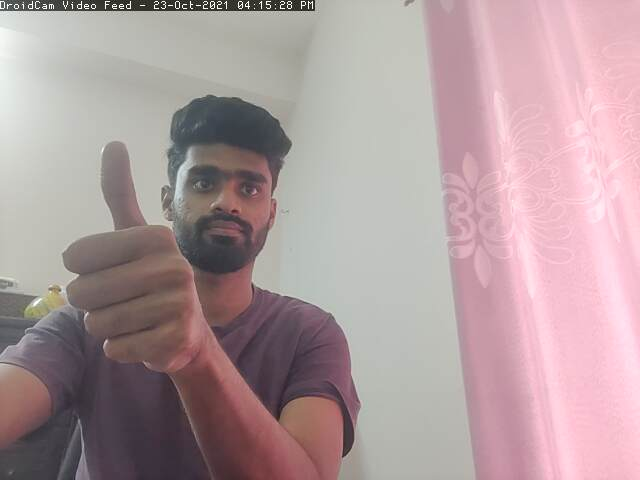ThumbsUp: (59, 138, 201, 375)
